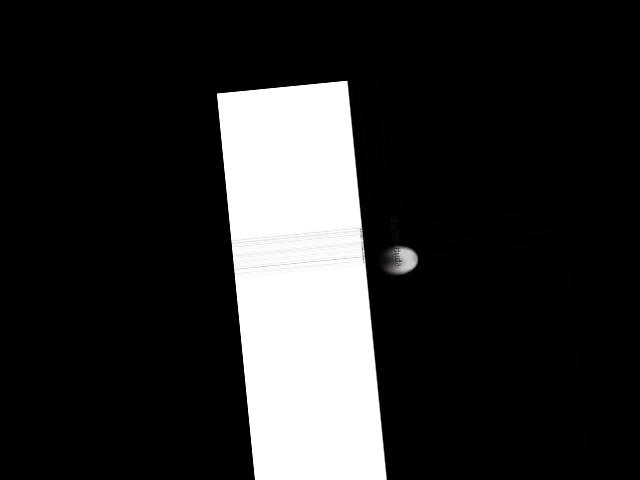egg: (376, 243, 420, 277)
